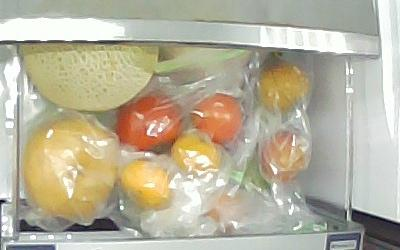melon: (20, 43, 158, 111)
pear_vinyl: (21, 116, 118, 217)
prune_vinyl: (256, 126, 310, 183), (188, 91, 243, 144), (253, 60, 309, 112)
tangerine_vinyl: (119, 157, 172, 209), (170, 131, 220, 174)
tomato_vinyl: (114, 87, 183, 155)
